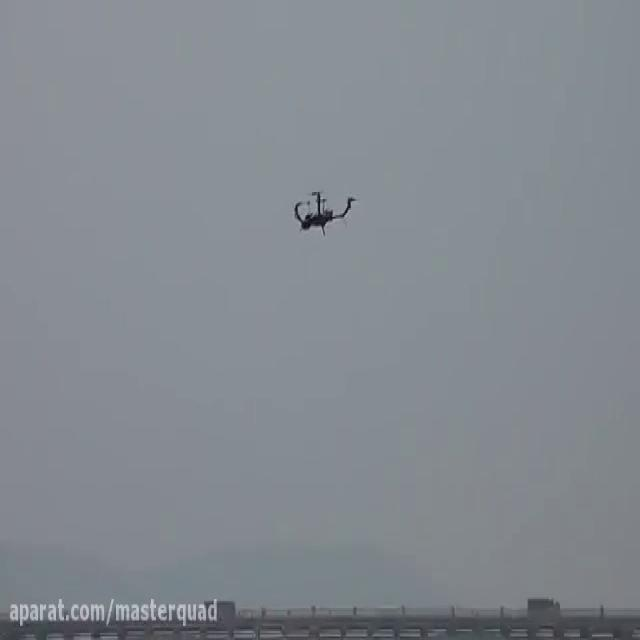drone: (289, 181, 358, 242)
